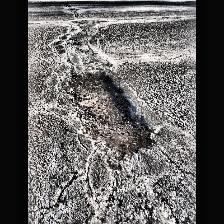pothole: (64, 68, 156, 166)
